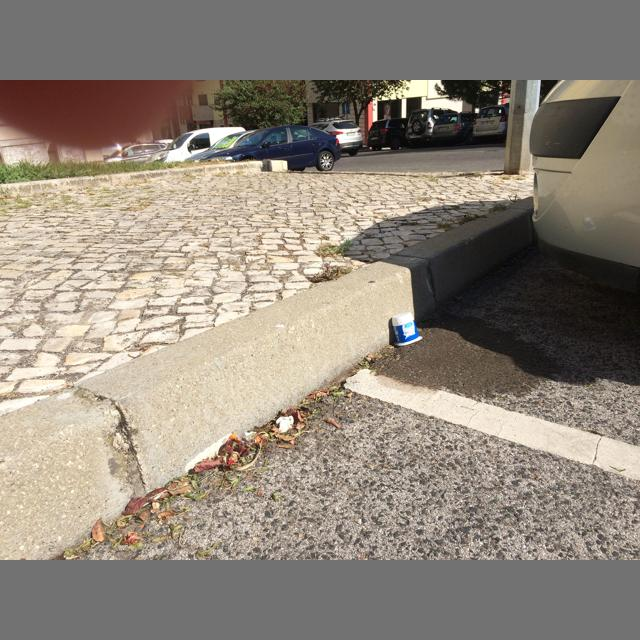litter: (392, 312, 422, 346), (226, 429, 254, 443), (277, 416, 293, 433)
